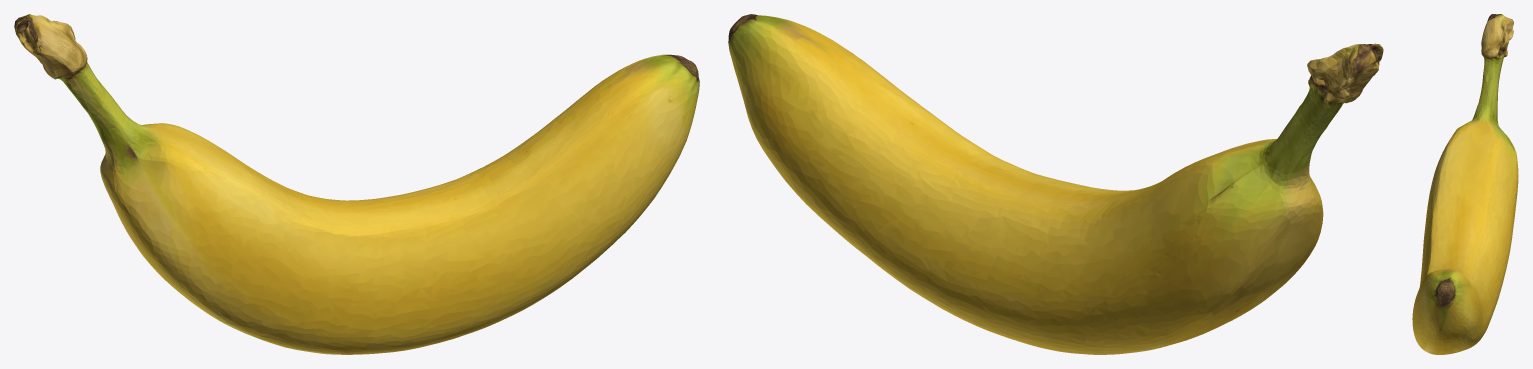
The model's file is Banana.glb.
3 renders of one model, left to right at view 1: azimuth 30°, elevation 25°; view 2: azimuth 150°, elevation 25°; view 3: azimuth 270°, elevation 25°, orthographic. The views are drawn at different scales.
Parts seen in each view (by area): view 1: Node1; view 2: Node1; view 3: Node1.
Boxes of the visible parts, bbox=[...] form: Node1: bbox=[14, 14, 699, 354]; Node1: bbox=[728, 14, 1383, 354]; Node1: bbox=[1412, 14, 1518, 354].
Size of the model in its own units: 1.99 by 1.13 by 0.4869.
Materials: 1 (1 with a texture image).
